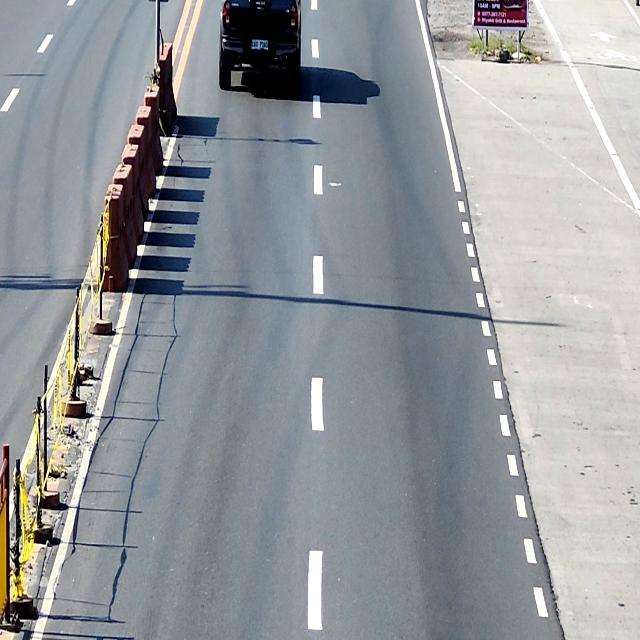Car: (219, 0, 301, 93)
License-Plate: (251, 40, 268, 50)
